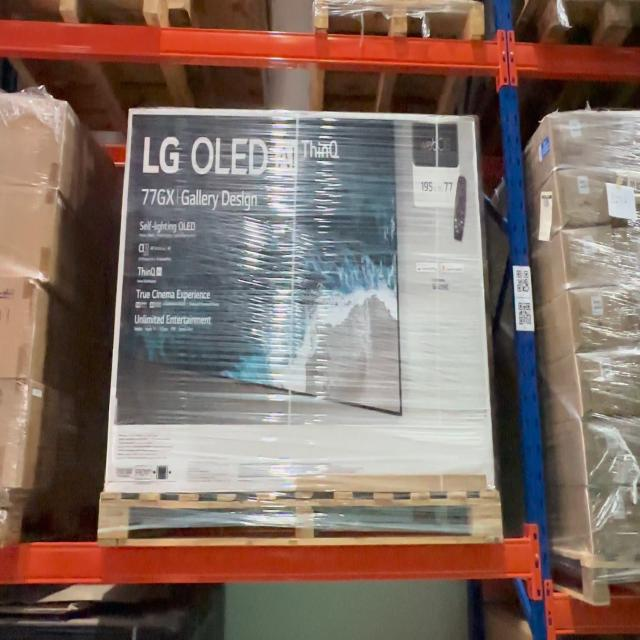box: (128, 120, 472, 490)
